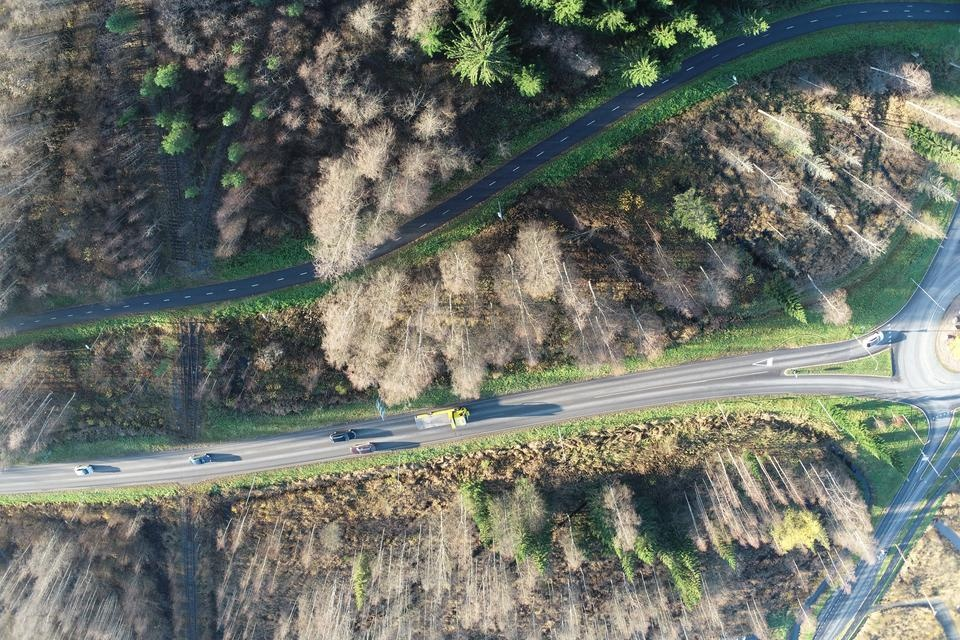roundabout: (861, 230, 960, 453)
